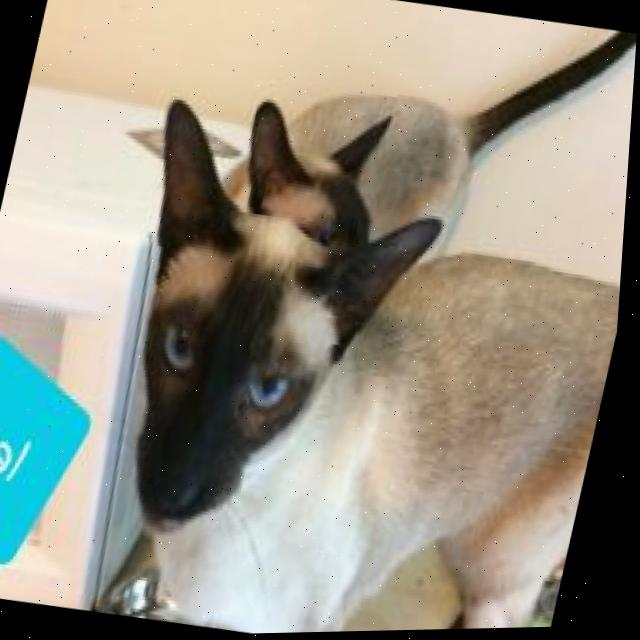Siamese: (60, 83, 635, 638)
